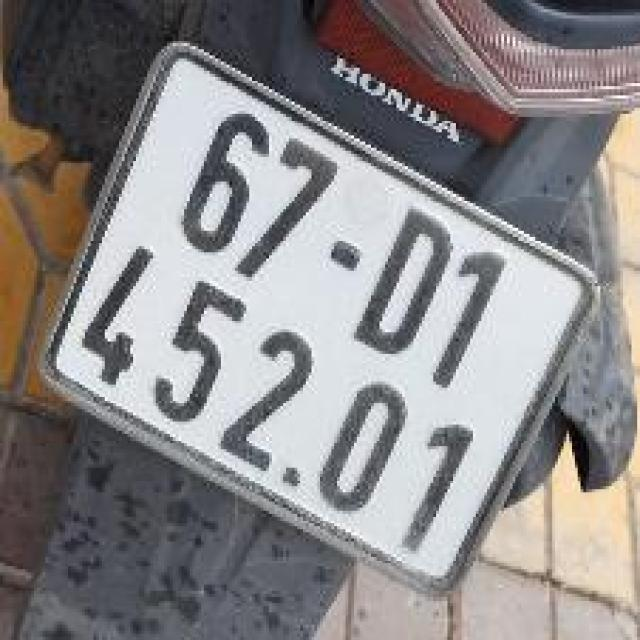0: (296, 369, 426, 531)
1: (386, 414, 488, 571), (418, 237, 518, 396)
2: (215, 317, 328, 485)
4: (60, 218, 178, 401)
5: (139, 268, 255, 433)
6: (172, 103, 278, 282)
7: (231, 127, 356, 299)
D: (331, 193, 466, 372)
